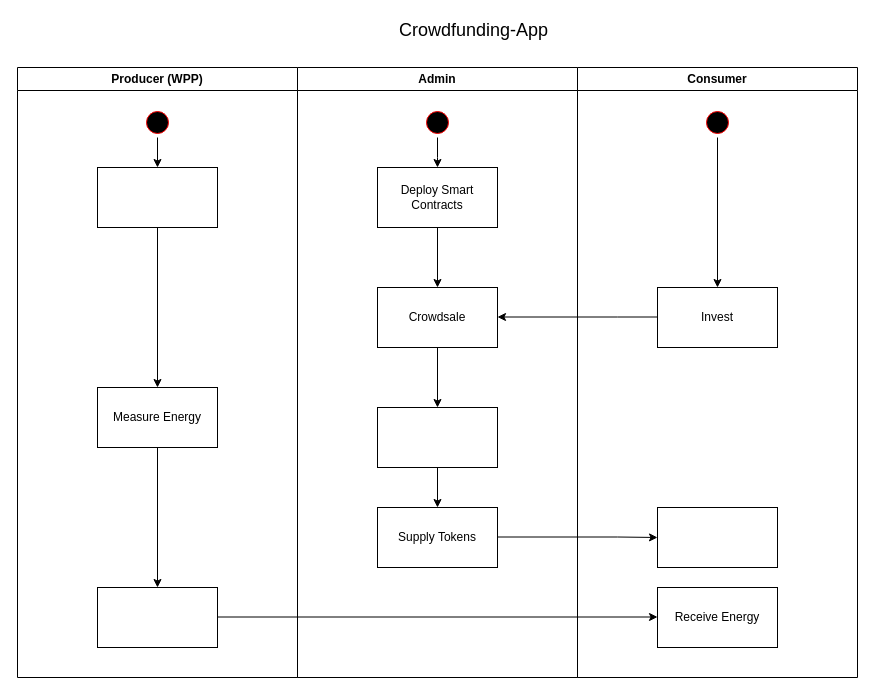
Image size: 875x695. Some labels were removed from this diagram. The shapes that lost their labels are listed below. From the top down, each one's centre as x and y in pixels, then its label:
the point at 157,197: Produce Energy
the point at 437,437: Check Target
the point at 717,537: Receive Token
the point at 157,617: Supply Energy
